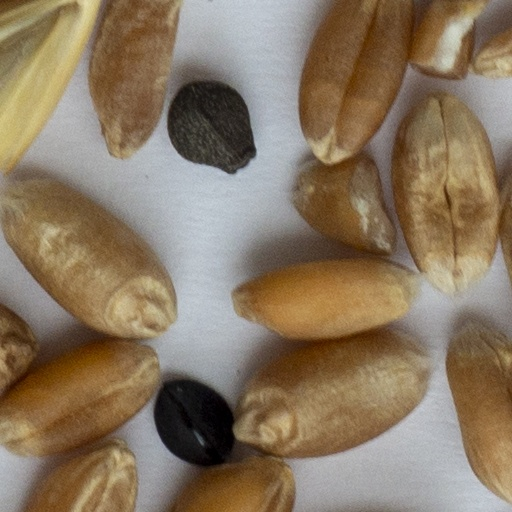Wheat-grain-damaged-poly: (284, 155, 396, 252), (409, 0, 499, 81)
